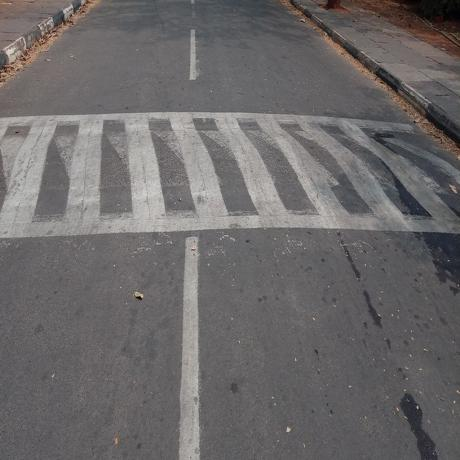Speed Bump: (0, 117, 460, 236)
